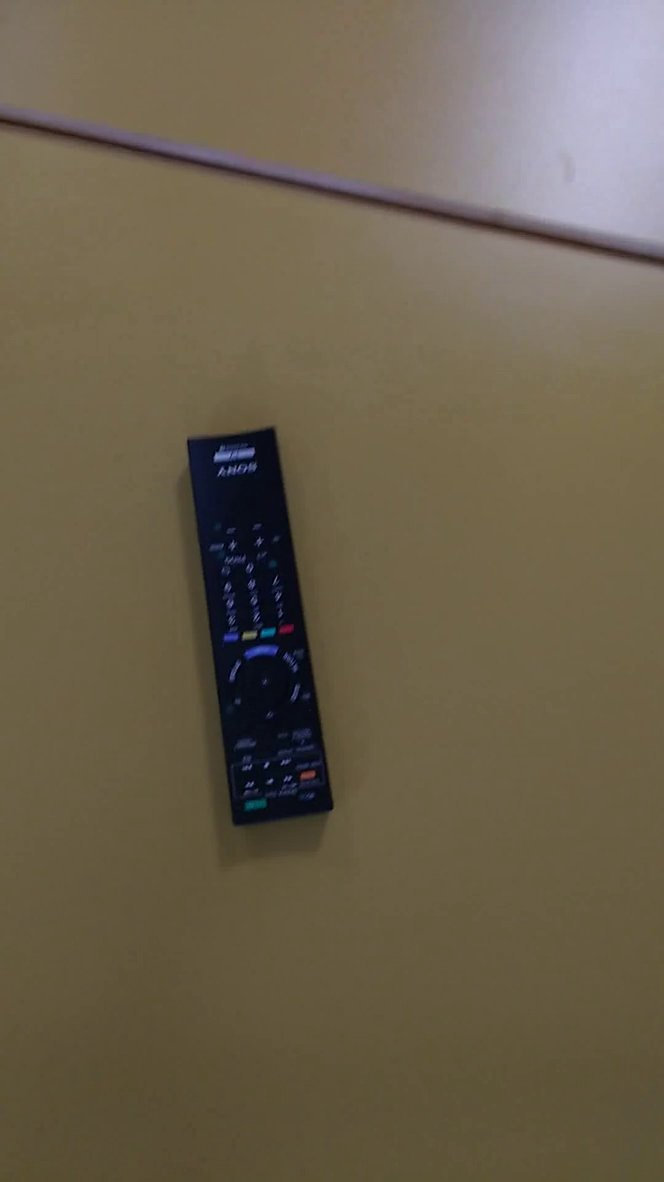remote: (174, 412, 360, 862)
